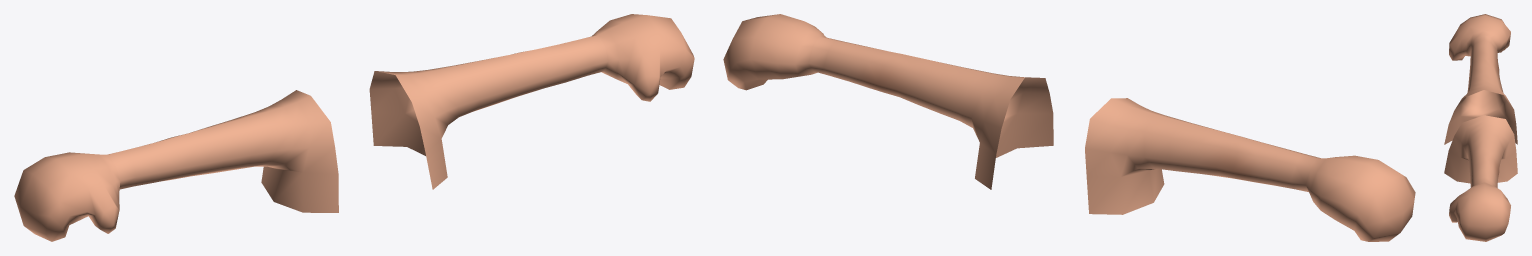
Rendered from Body_Yellow_ArmB_1.fbx.
The picture shows the model from 3 angles, left to right: view 1: azimuth 30°, elevation 25°; view 2: azimuth 150°, elevation 25°; view 3: azimuth 270°, elevation 25°; orthographic projection. The views are drawn at different scales.
Visible parts, largest first — view 1: Body_Yellow_ArmB_1; view 2: Body_Yellow_ArmB_1; view 3: Body_Yellow_ArmB_1.
Part boxes in pixels (box(x1,y1,x2,y2)): Body_Yellow_ArmB_1: box(14, 14, 694, 241); Body_Yellow_ArmB_1: box(723, 14, 1415, 241); Body_Yellow_ArmB_1: box(1444, 14, 1517, 241).
Size of the model in its own units: 130 by 17.74 by 20.37.
